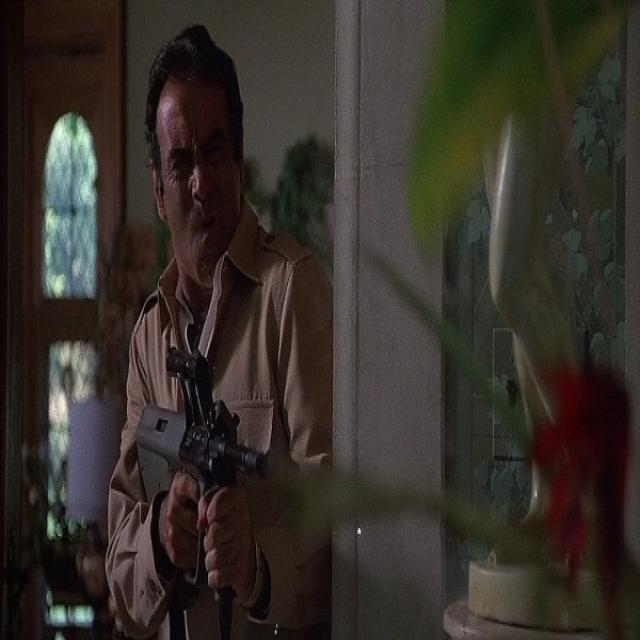rifle: (133, 348, 278, 507)
